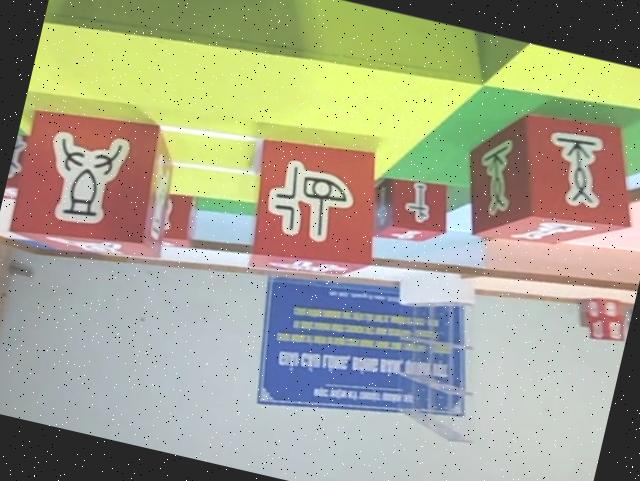R2 Real: (451, 87, 640, 266), (6, 95, 188, 272), (235, 124, 394, 296), (367, 163, 458, 252), (2, 128, 32, 200)
